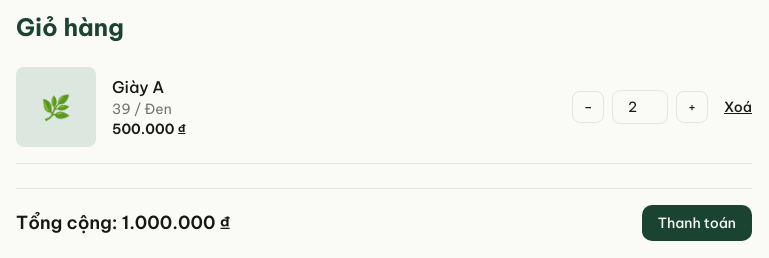
Scenario: CartPage › gõ giá trị không hợp lệ (0) rồi blur → KHÔNG commit, ô reset về số lượng hiện tại
The image size is (769, 258).
Replace the text in the number field named "số lượng" with "0" at [640, 107], box left=612, top=90, right=668, bottom=124
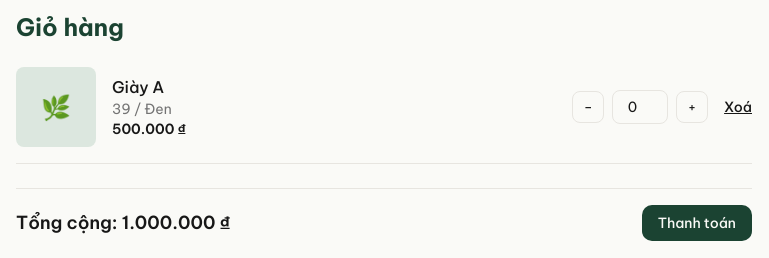
Leave the number field named "số lượng", box left=612, top=90, right=668, bottom=124
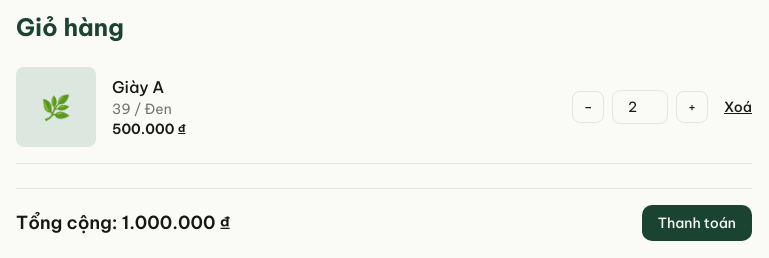
Expected: the number field named "số lượng" holds "2", left=612, top=90, right=668, bottom=124
